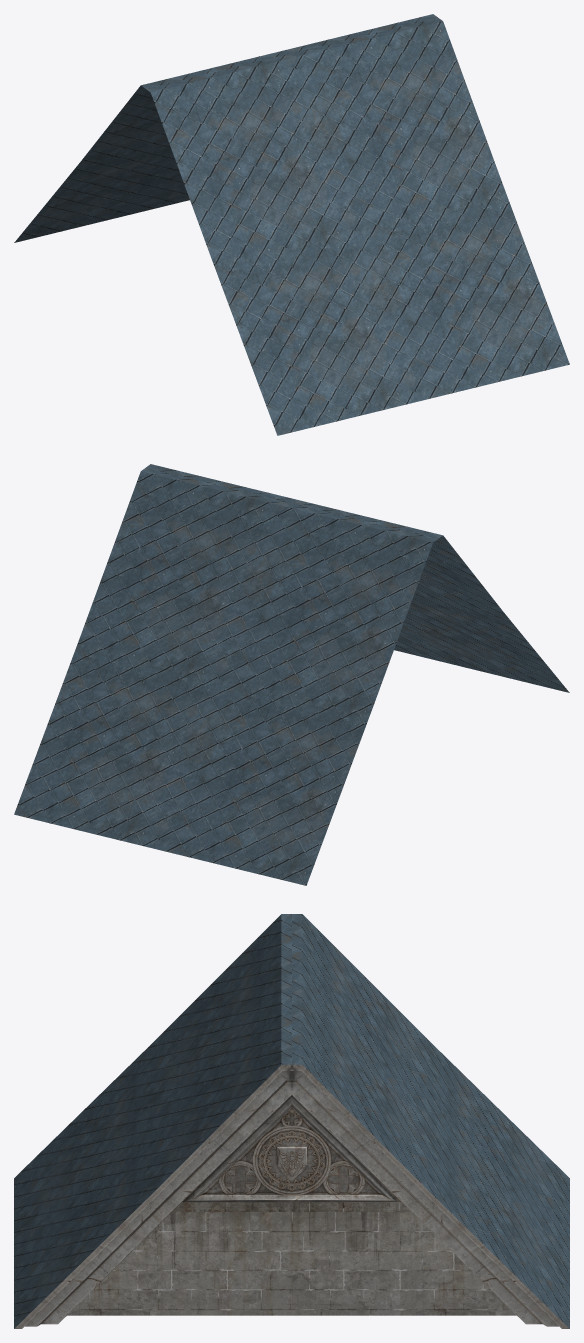
The model's file is bg_lut_lucastle_churchroof02a_sm_ksh.FBX.
3 views of the same model, one above another, from view 1: azimuth 30°, elevation 25°; view 2: azimuth 150°, elevation 25°; view 3: azimuth 270°, elevation 25° (orthographic). The views are drawn at different scales.
Visible parts, largest first — view 1: bg_lut_lucastle_churchroof02a_sm_ksh; view 2: bg_lut_lucastle_churchroof02a_sm_ksh; view 3: bg_lut_lucastle_churchroof02a_sm_ksh.
Boxes of the visible parts, x1,y1,x2,y2 form: bg_lut_lucastle_churchroof02a_sm_ksh: (14,14,569,435); bg_lut_lucastle_churchroof02a_sm_ksh: (14,464,569,885); bg_lut_lucastle_churchroof02a_sm_ksh: (14,914,569,1328).
Bounding box in the file's own units: 914 × 748 × 1425.
